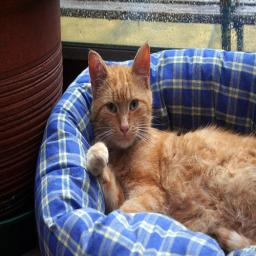catnose: (119, 121, 130, 136)
